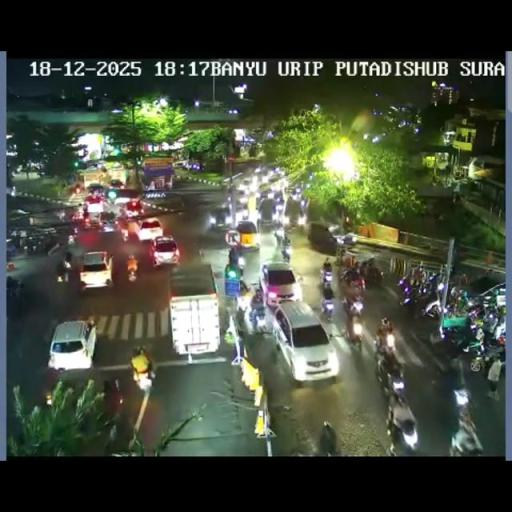Car: (268, 302, 338, 382), (169, 266, 221, 358), (48, 320, 96, 370), (258, 260, 300, 305), (78, 250, 114, 290), (470, 281, 505, 313), (150, 235, 181, 267), (234, 220, 258, 250), (138, 218, 163, 242), (257, 196, 275, 228), (208, 204, 230, 230), (85, 195, 105, 214), (97, 214, 118, 232), (124, 199, 143, 217), (113, 191, 132, 206), (266, 174, 282, 191), (87, 182, 106, 196), (109, 178, 124, 189), (242, 178, 252, 190)
Motorcycle: (384, 390, 419, 453), (425, 326, 466, 372), (464, 330, 503, 376), (448, 408, 482, 455), (374, 346, 406, 394), (402, 280, 438, 318), (343, 310, 364, 346), (103, 423, 126, 455), (452, 360, 470, 399), (376, 318, 395, 354), (236, 283, 255, 314), (342, 272, 364, 298), (449, 286, 469, 314), (362, 265, 385, 288), (22, 234, 48, 254), (249, 302, 266, 331), (134, 366, 154, 390), (6, 276, 24, 301), (480, 309, 498, 334), (321, 287, 334, 319), (43, 374, 59, 400), (102, 378, 120, 400), (451, 270, 468, 288), (410, 264, 423, 286), (56, 262, 69, 282), (340, 232, 358, 246), (126, 262, 138, 282), (6, 238, 18, 258), (321, 266, 333, 283), (280, 243, 290, 263), (274, 225, 284, 245), (236, 255, 246, 273), (67, 228, 78, 244), (272, 206, 282, 222), (120, 226, 129, 242), (240, 206, 250, 220), (253, 288, 262, 302), (56, 210, 66, 222), (118, 205, 127, 218), (298, 214, 306, 228), (82, 216, 90, 229)
